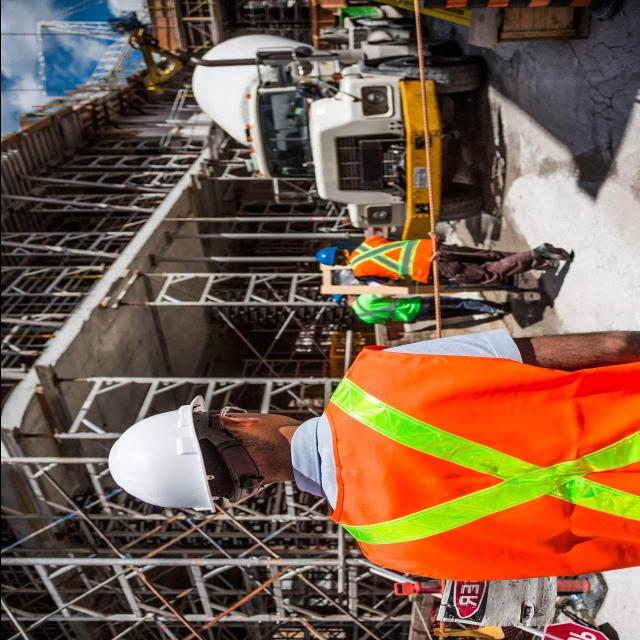helmet: (98, 394, 224, 520), (310, 242, 342, 272), (329, 290, 345, 307)
jacket: (310, 339, 640, 578), (348, 230, 430, 286), (351, 292, 416, 326)
